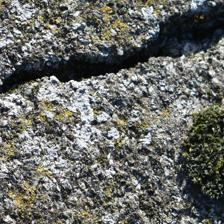Crack: (3, 5, 220, 103)
